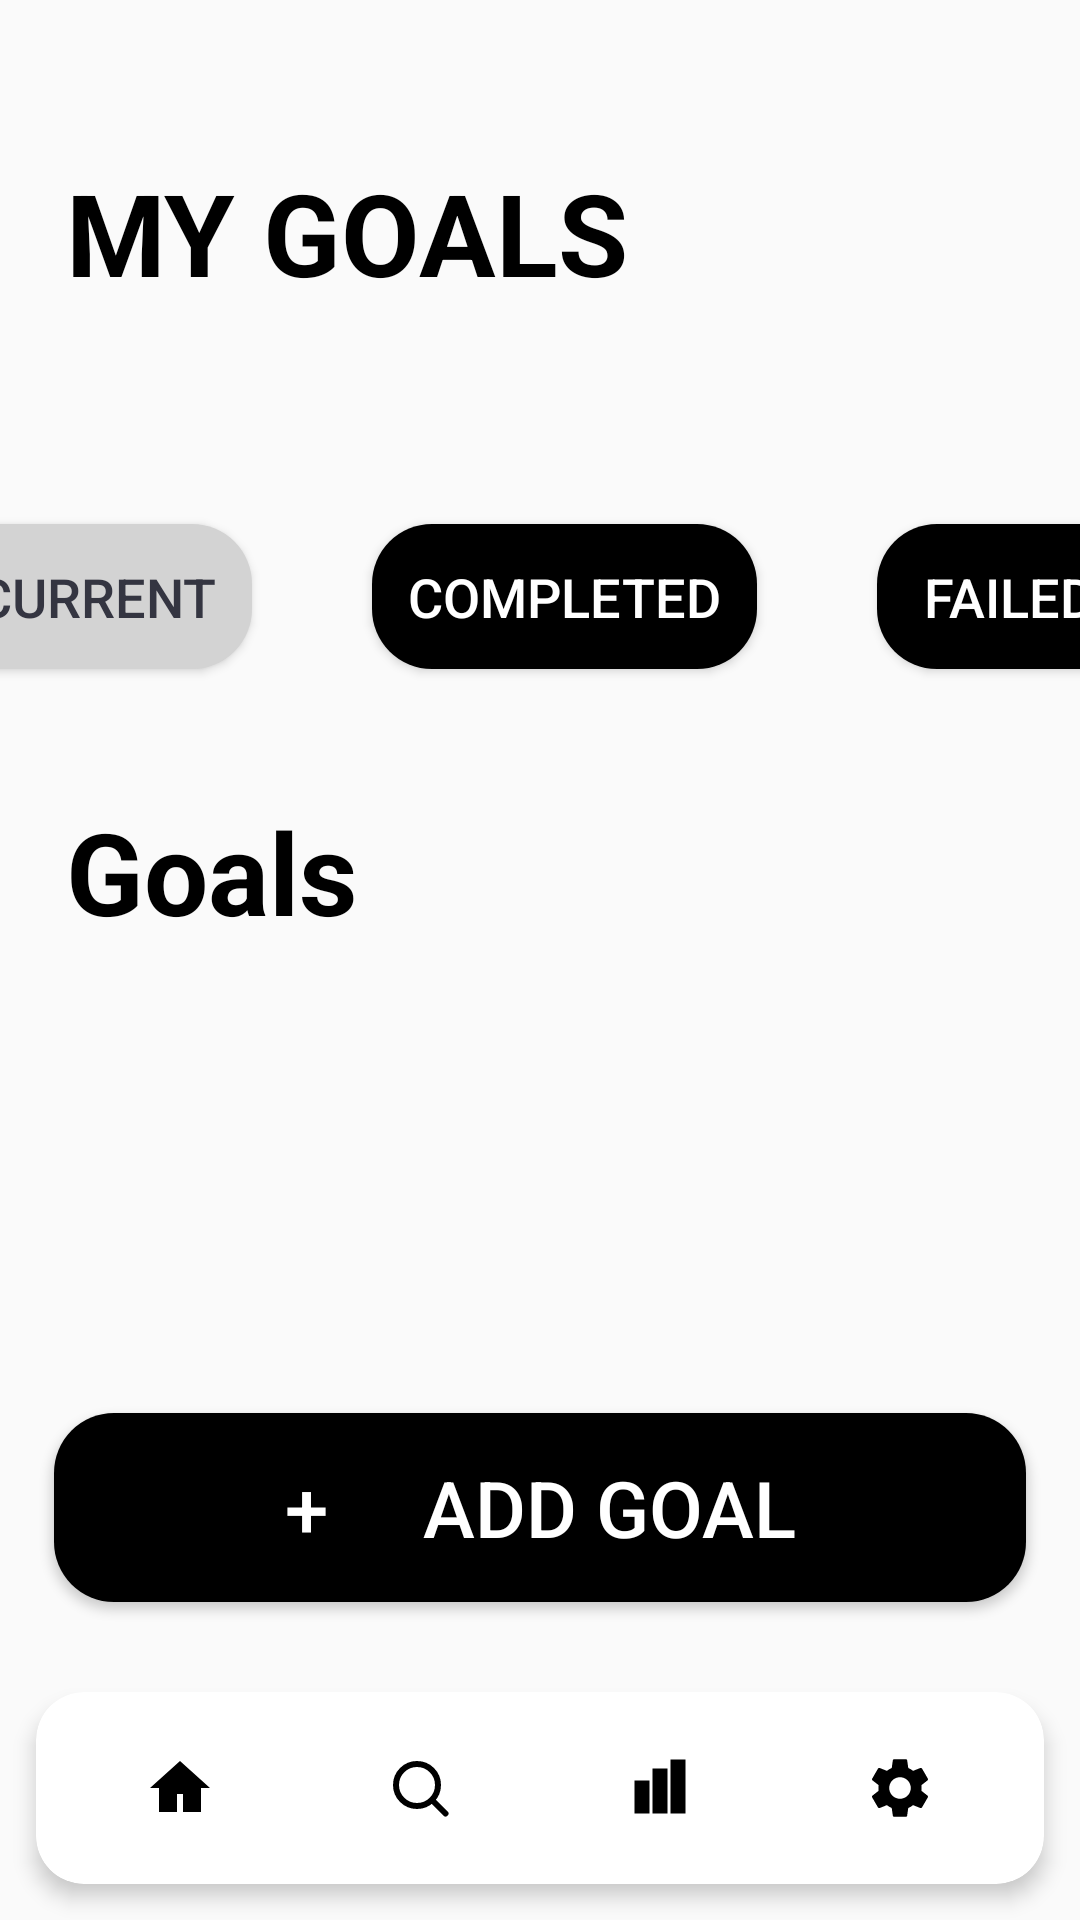

Where to tap for icons on this 1080w x 1920h app screen, as point (x, y):
home: point (180, 1786)
Search: point (421, 1789)
settings: point (900, 1788)
Stats: point (660, 1786)
